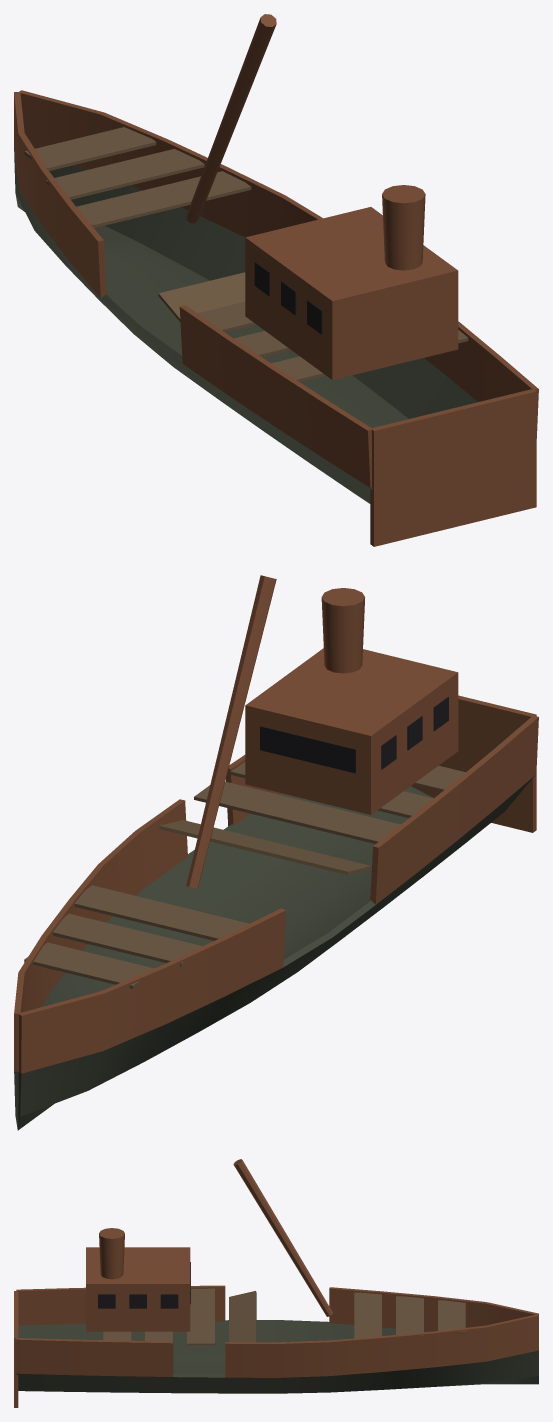
File: shipwreck.glb
The picture shows the model from 3 angles, top to bottom: view 1: azimuth 30°, elevation 25°; view 2: azimuth 150°, elevation 25°; view 3: azimuth 270°, elevation 25°; orthographic projection. The views are drawn at different scales.
Parts seen in each view (by area): view 1: shipwreck__Body; view 2: shipwreck__Body; view 3: shipwreck__Body.
Part boxes in pixels (x1,y1,x2,y2): shipwreck__Body: [14, 14, 538, 546]; shipwreck__Body: [14, 575, 538, 1130]; shipwreck__Body: [14, 1159, 538, 1407].
Size of the model in its own units: 7.95 by 14.2 by 30.12.
